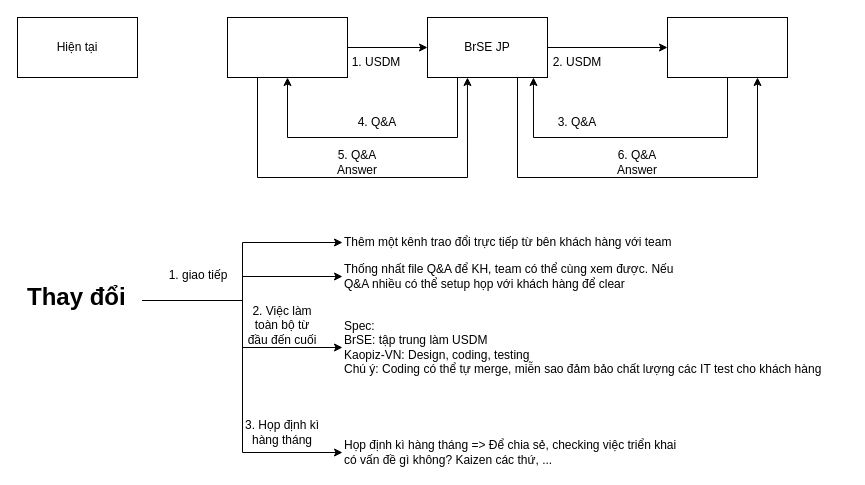
This 865x485 diagram has some shape labels left out. The box of each missing label's shape, as (x1, y1, x2, y2) in pixels:
Rvsta: (226, 16, 348, 78)
Team VN (Off-shore): (666, 16, 788, 78)
